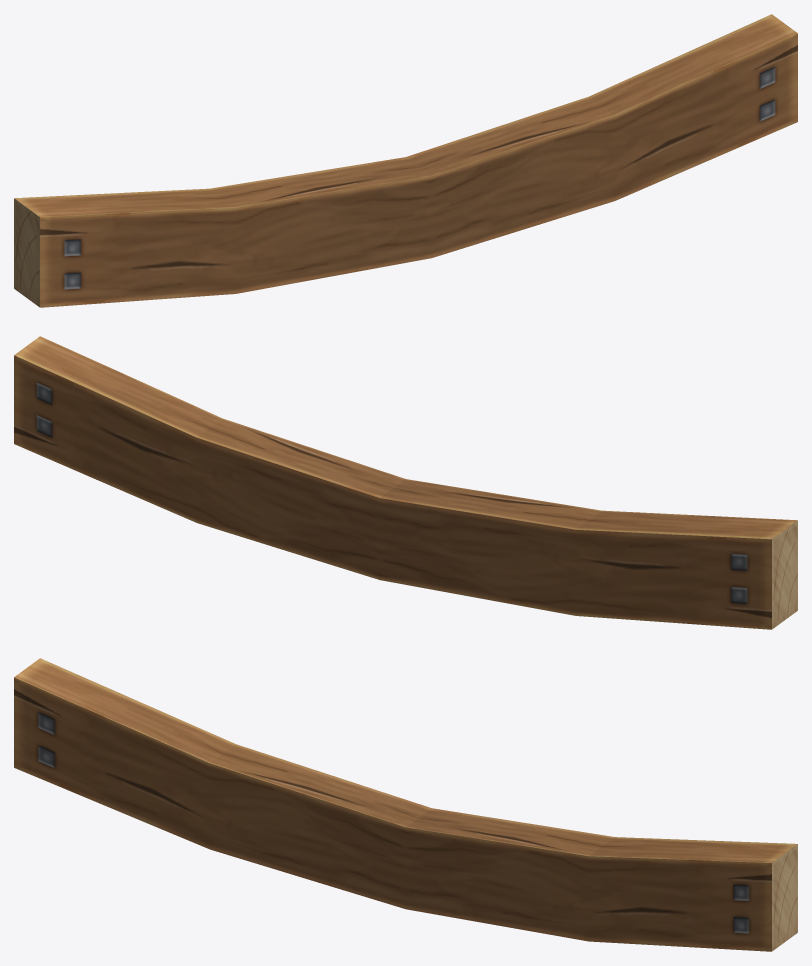
3 views of the same model, one above another, from view 1: azimuth 30°, elevation 25°; view 2: azimuth 150°, elevation 25°; view 3: azimuth 330°, elevation 25° (orthographic).
Visible parts, largest first — view 1: part_10a:Mesh; view 2: part_10a:Mesh; view 3: part_10a:Mesh.
Boxes of the visible parts, x1,y1,x2,y2 form: part_10a:Mesh: (14,14,797,307); part_10a:Mesh: (14,336,797,629); part_10a:Mesh: (14,658,797,951).
Bounding box in the file's own units: 6.1 × 1.05 × 0.3645.
